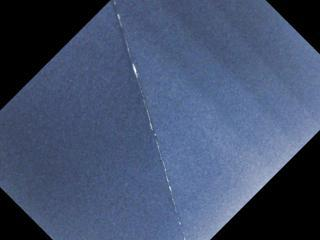crack: (111, 0, 186, 240)
